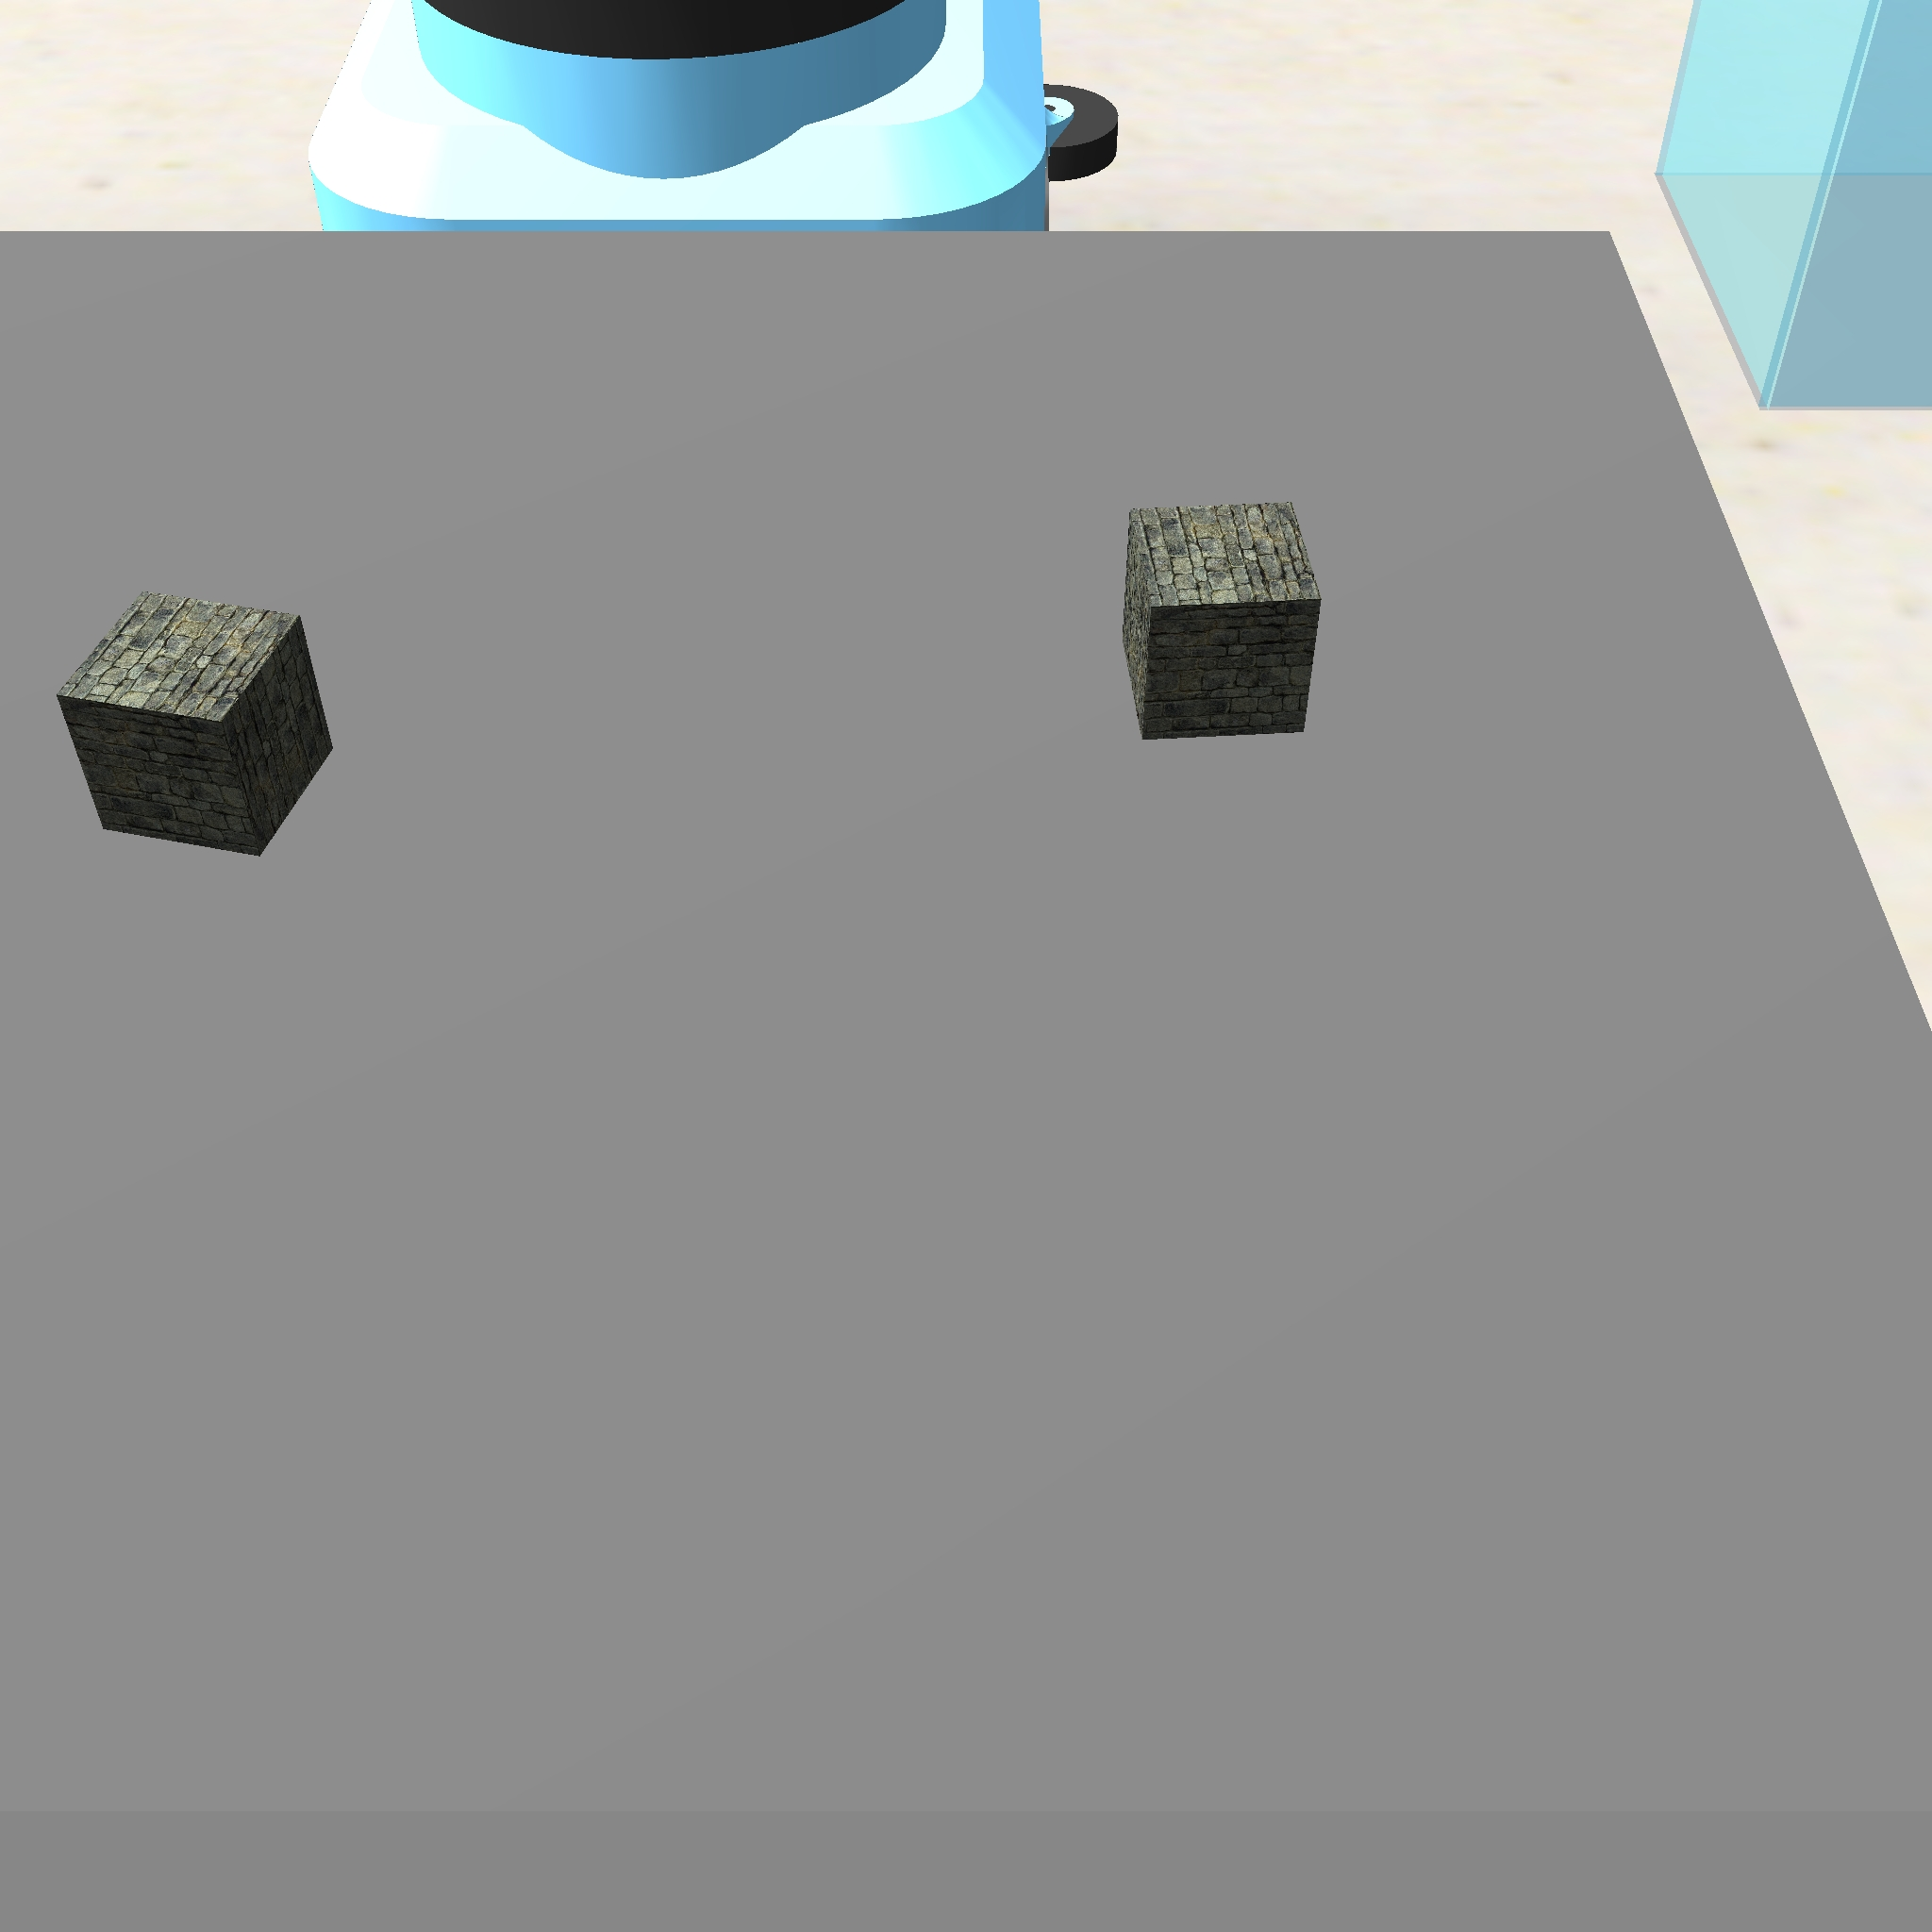cube: (50, 584, 343, 863), (1113, 494, 1330, 748)
